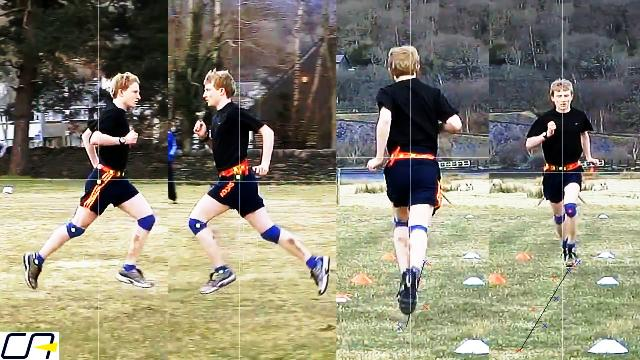berlari: (185, 67, 332, 299), (20, 66, 158, 294), (364, 40, 462, 312), (526, 75, 600, 270)
